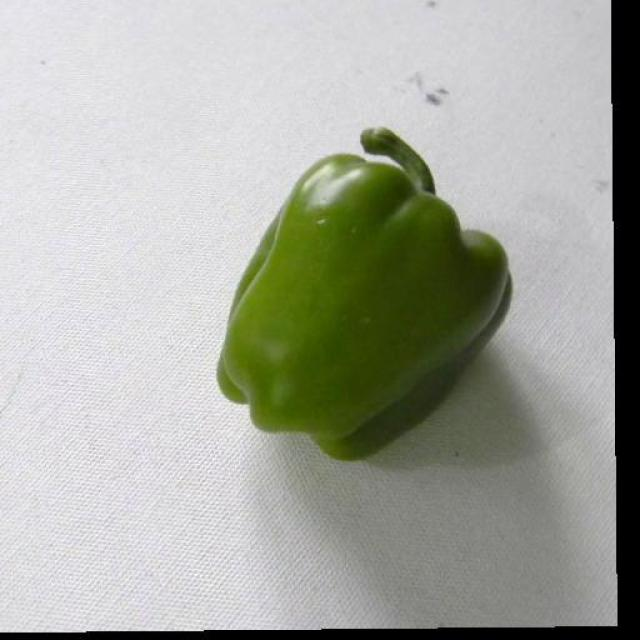Fresh_Capsicum: (258, 137, 494, 443)
